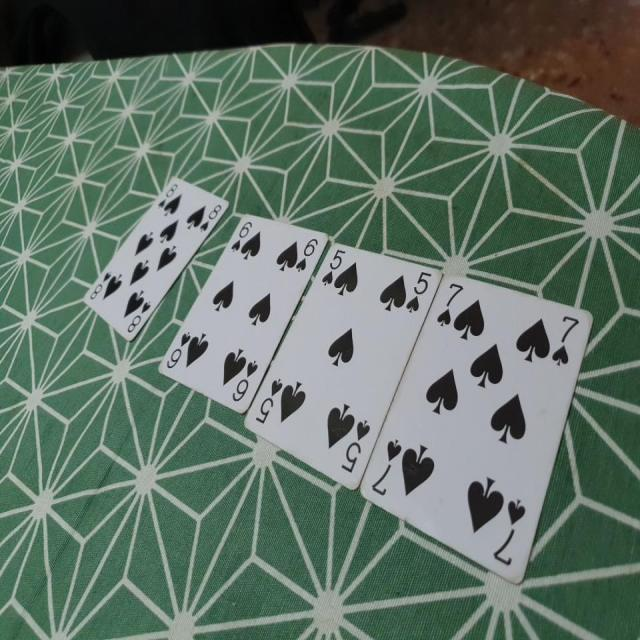5 Spades: (243, 234, 445, 494)
6 Spades: (153, 215, 330, 420)
7 Spades: (361, 281, 598, 596)
8 Spades: (81, 174, 229, 348)
